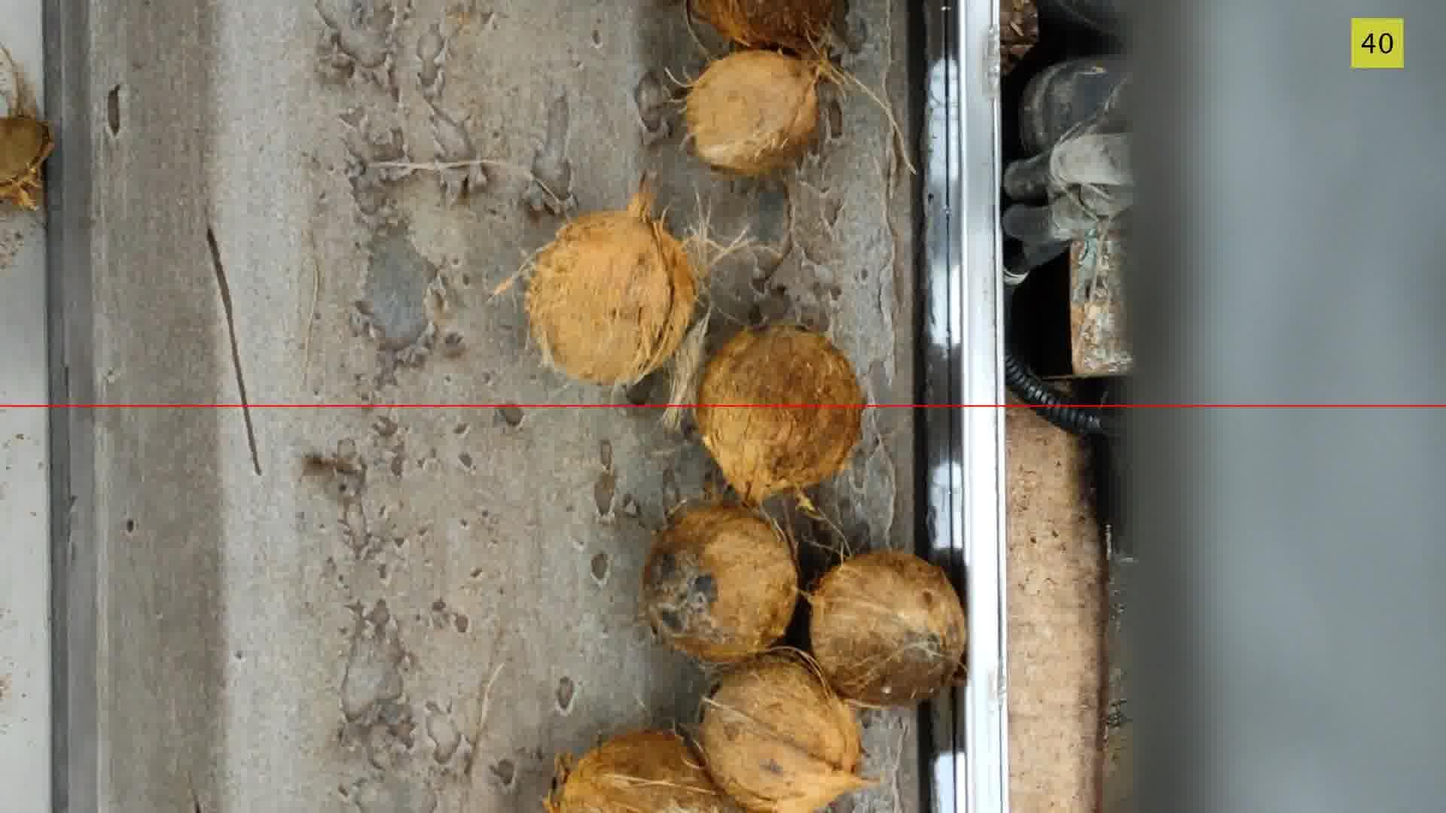Coconut: (526, 184, 697, 385), (696, 325, 863, 504), (698, 654, 873, 812), (642, 505, 798, 662), (809, 550, 966, 705), (685, 51, 825, 175), (544, 730, 737, 812), (692, 0, 835, 52), (0, 116, 53, 209)
